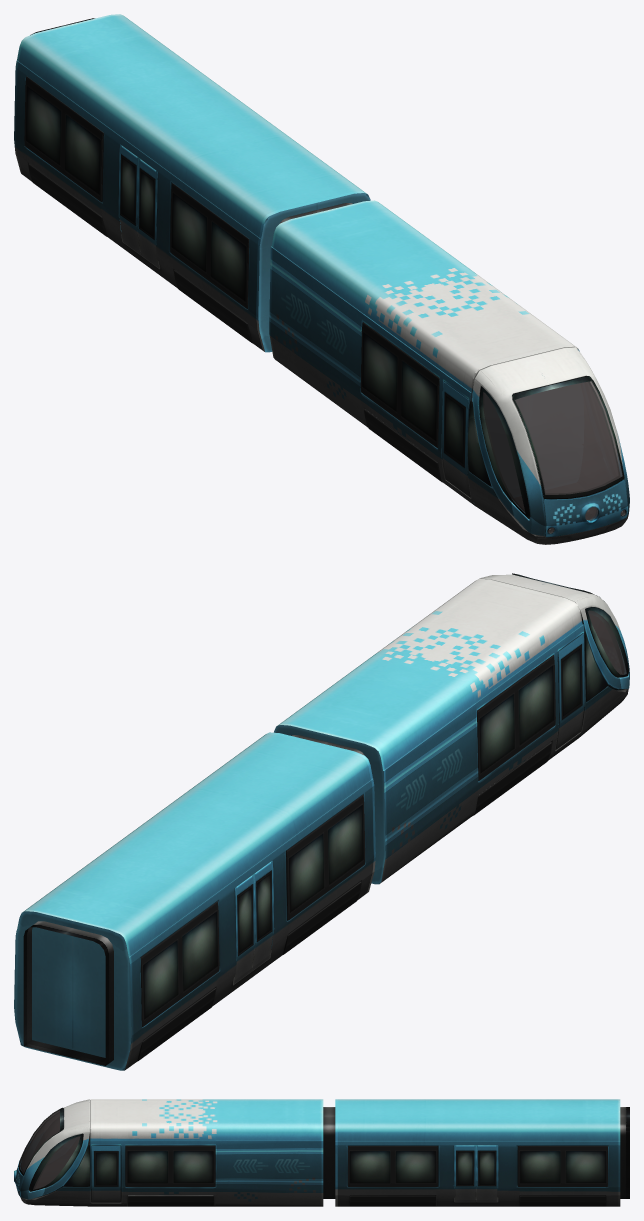
File: Train_4.fbx
The picture shows the model from 3 angles, top to bottom: view 1: azimuth 30°, elevation 25°; view 2: azimuth 150°, elevation 25°; view 3: azimuth 270°, elevation 25°; orthographic projection. The views are drawn at different scales.
Parts seen in each view (by area): view 1: Train_Engine, Train__compartment, Door3, Door2; view 2: Train__compartment, Train_Engine, Door2, Door3; view 3: Train_Engine, Train__compartment, Door, Door1.
Boxes of the visible parts, x1,y1,x2,y2 form: Train_Engine: [269, 200, 629, 544]; Train__compartment: [14, 14, 370, 352]; Door3: [137, 158, 160, 269]; Door2: [118, 144, 140, 255]; Train__compartment: [14, 732, 375, 1070]; Train_Engine: [274, 573, 629, 884]; Door2: [232, 874, 255, 985]; Door3: [251, 860, 273, 971]; Train_Engine: [14, 1099, 335, 1206]; Train__compartment: [335, 1099, 629, 1206]; Door: [454, 1145, 476, 1202]; Door1: [476, 1145, 498, 1202].
Bounding box in the file's own units: 321 × 357 × 2470.
2 materials, 1 textured.
